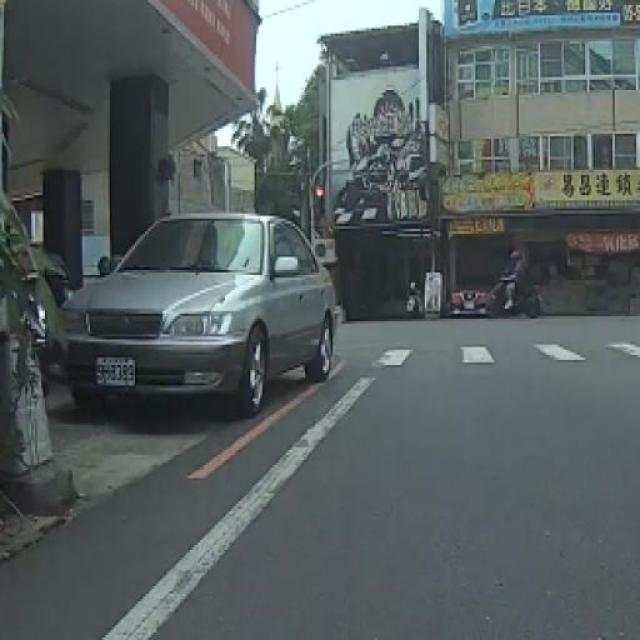illegalparking: (41, 189, 373, 452)
